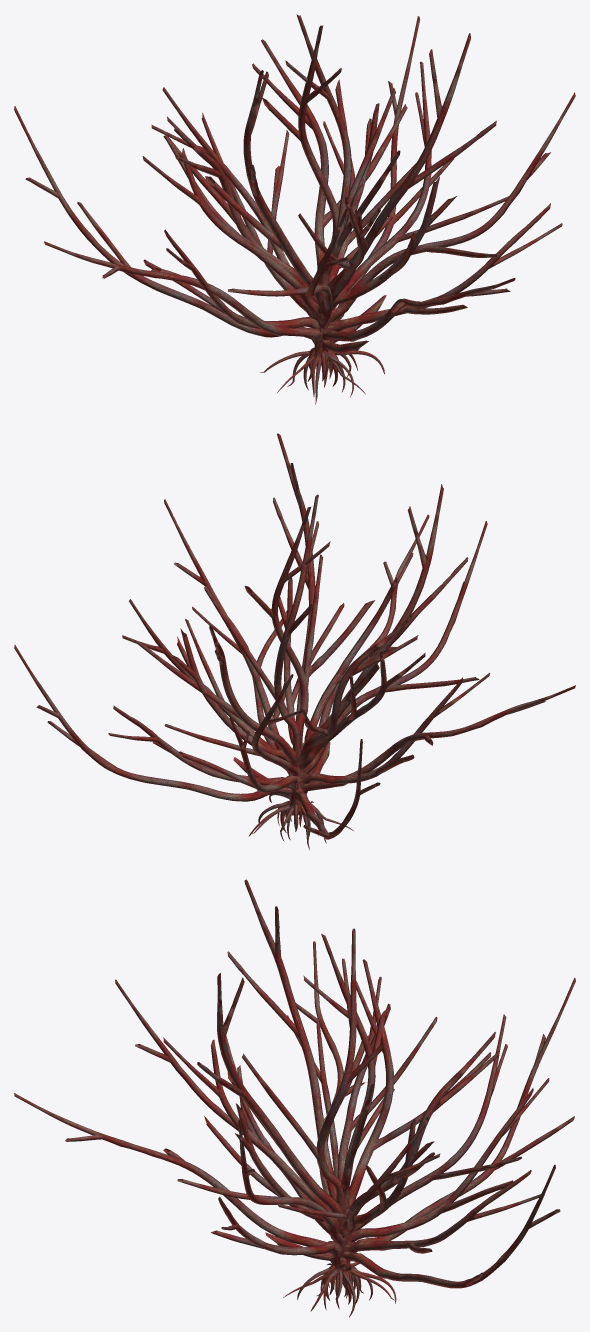
The model's file is Red_Osier_Dogwood.glb.
The picture shows the model from 3 angles, top to bottom: view 1: azimuth 30°, elevation 25°; view 2: azimuth 150°, elevation 25°; view 3: azimuth 270°, elevation 25°; orthographic projection. The views are drawn at different scales.
Visible parts, largest first — view 1: Red_Osier_Dogwood; view 2: Red_Osier_Dogwood; view 3: Red_Osier_Dogwood.
Part boxes in pixels (box(x1,y1,x2,y2)): Red_Osier_Dogwood: box(14, 14, 575, 404); Red_Osier_Dogwood: box(14, 433, 575, 849); Red_Osier_Dogwood: box(14, 879, 575, 1317).
Bounding box in the file's own units: 6.4 × 4.71 × 6.4.
Materials: 1 (1 with a texture image).
